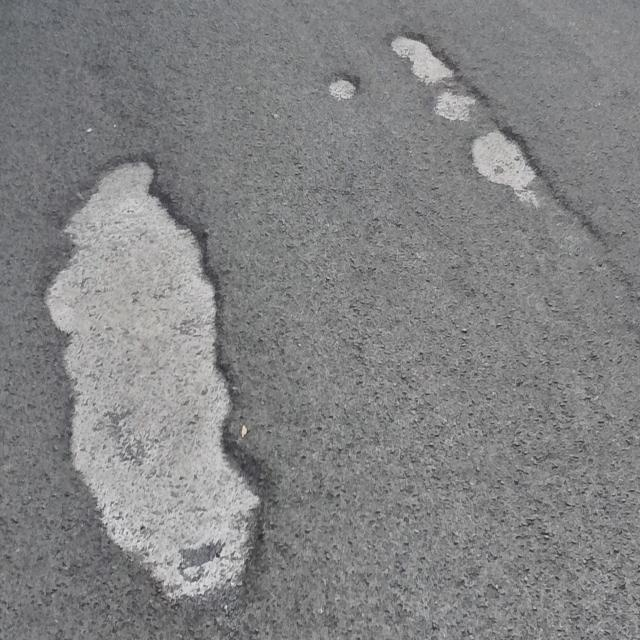pothole: (36, 118, 292, 634), (376, 14, 564, 220), (316, 34, 372, 124)
